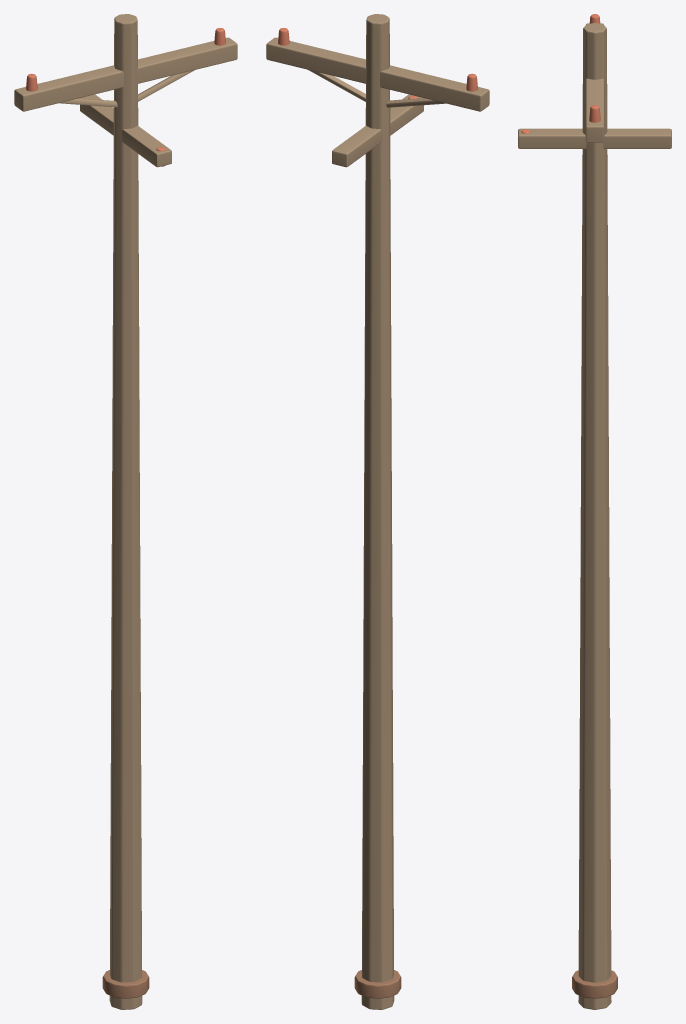
File: power_pole.glb
3 views of the same model, side by side, from view 1: azimuth 30°, elevation 25°; view 2: azimuth 150°, elevation 25°; view 3: azimuth 270°, elevation 25° (orthographic).
Parts seen in each view (by area): view 1: power_pole; view 2: power_pole; view 3: power_pole.
Part boxes in pixels (left/top/right/bottom): power_pole: left=14, top=14, right=237, bottom=1009; power_pole: left=266, top=14, right=489, bottom=1009; power_pole: left=518, top=14, right=671, bottom=1009.
Size of the model in its own units: 1.6 by 7 by 1.
